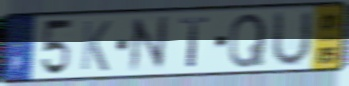5: (40, 18, 74, 78)
K: (78, 19, 113, 74)
N: (127, 13, 169, 75)
Q: (226, 11, 269, 70)
T: (178, 15, 212, 70)
U: (268, 9, 313, 70)
